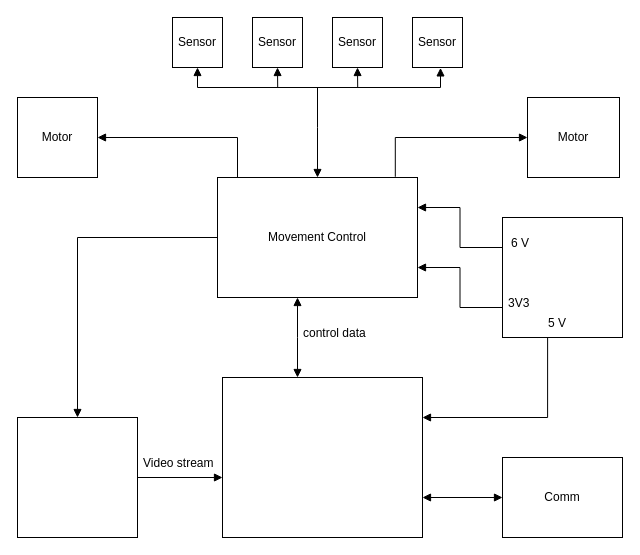
The diagram is 640 pixels wide and 555 high, and some of its shapes have lost their labels. Here are the shapes that lost their labels. From the top down, the box of each, then its label:
(502, 216, 622, 338): PWR supply
(16, 416, 138, 538): Camera & Rotor
(222, 376, 422, 538): Raspberry Pi
